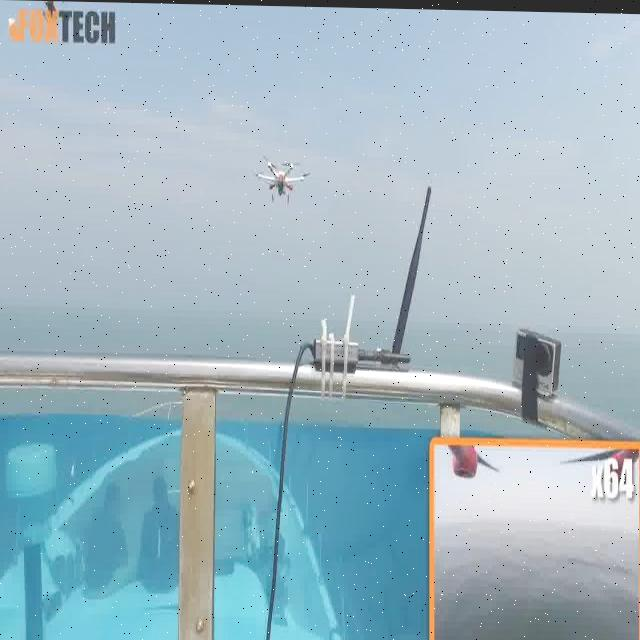drone: (253, 149, 313, 225)
